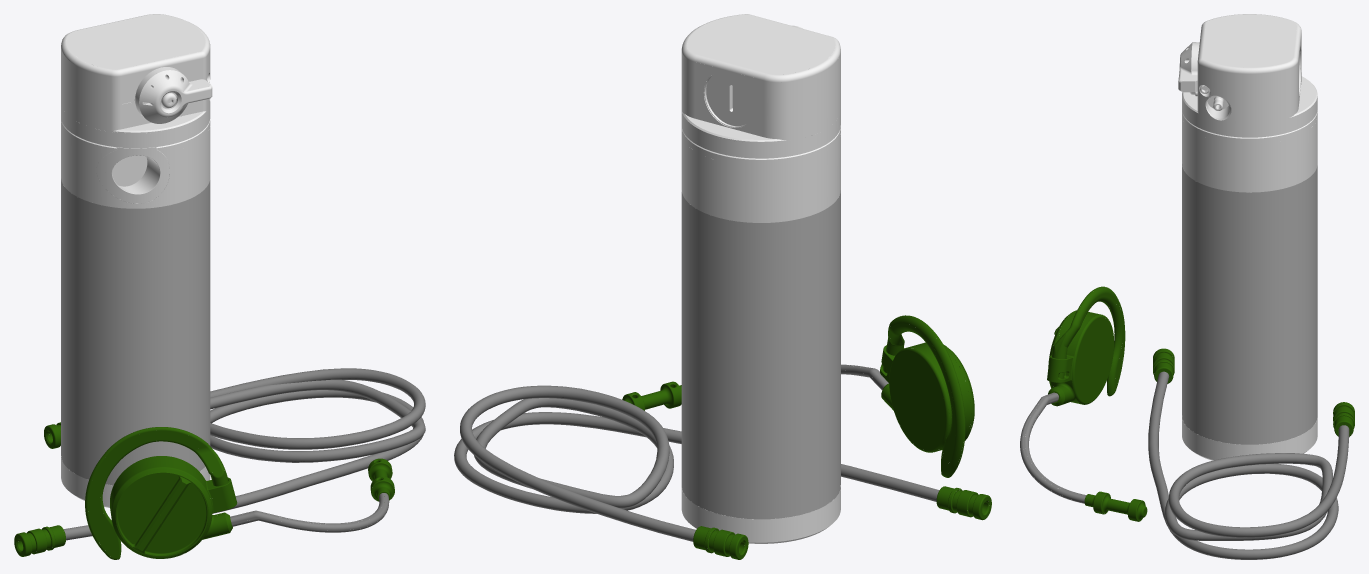
File: SALIXLIFEHERO3D.glb
The picture shows the model from 3 angles, left to right: view 1: azimuth 30°, elevation 25°; view 2: azimuth 150°, elevation 25°; view 3: azimuth 270°, elevation 25°; orthographic projection. The views are drawn at different scales.
Visible parts, largest first — view 1: PartBody (×13), 레이어 06; view 2: PartBody (×10), 레이어 06; view 3: PartBody (×11), 레이어 06.
Boxes of the visible parts, box(x1,y1,x2,y2) form: PartBody (×13): box(14, 14, 394, 559); 레이어 06: box(63, 368, 425, 540); PartBody (×10): box(622, 14, 991, 559); 레이어 06: box(454, 385, 939, 541); PartBody (×11): box(1020, 14, 1354, 521); 레이어 06: box(1148, 371, 1349, 559).
Bounding box in the file's own units: 0.1903 × 0.182 × 0.1384.
